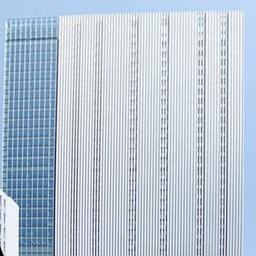building: (2, 10, 242, 256)
